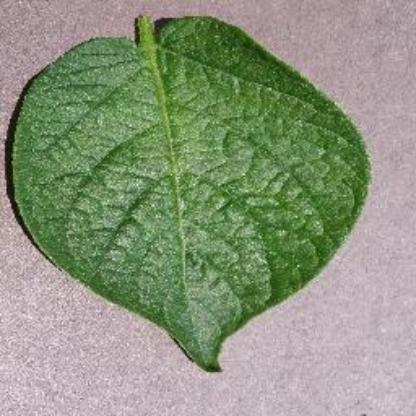Healthy-plant: (5, 14, 379, 376)
